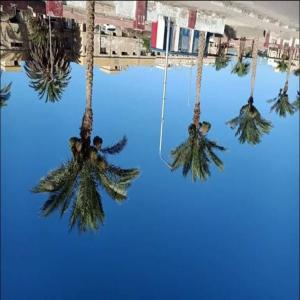palm tree: (28, 0, 140, 234), (169, 29, 229, 182), (225, 36, 273, 146), (23, 14, 72, 103), (266, 36, 300, 118)
